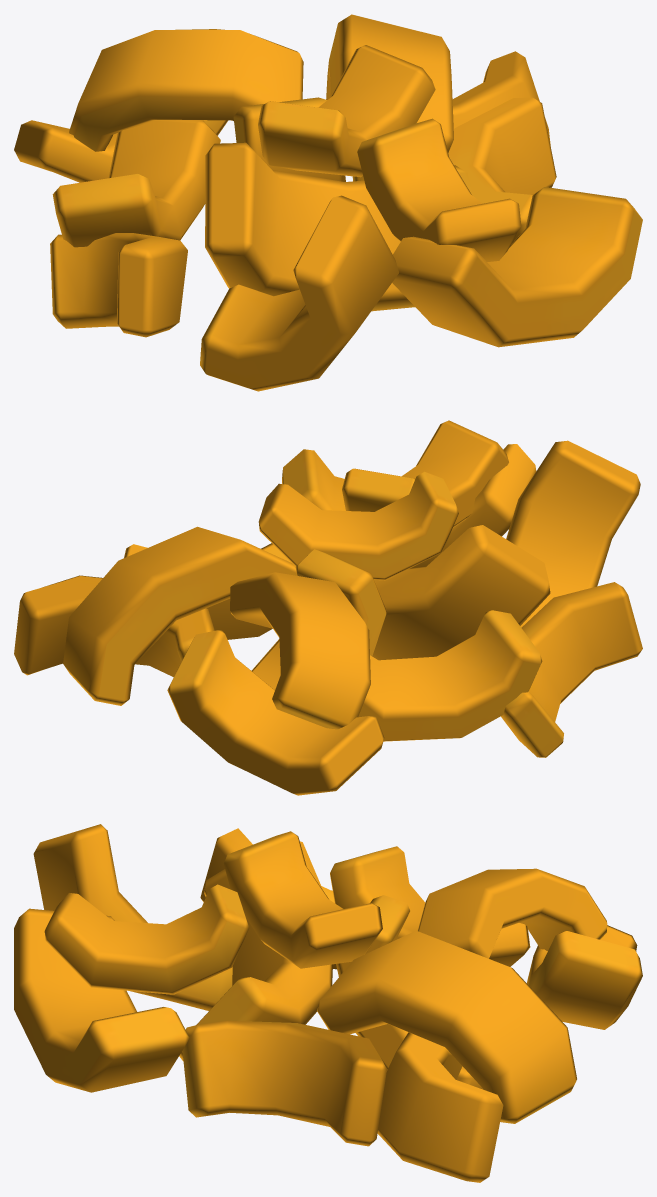
Rendered from m_ingredients_cheese_sliced_01.fbx.
3 renders of one model, top to bottom at view 1: azimuth 30°, elevation 25°; view 2: azimuth 150°, elevation 25°; view 3: azimuth 270°, elevation 25°, orthographic. The views are drawn at different scales.
Parts seen in each view (by area): view 1: m_ingredients_cheese_sliced_01; view 2: m_ingredients_cheese_sliced_01; view 3: m_ingredients_cheese_sliced_01.
Boxes of the visible parts, x1=… form: m_ingredients_cheese_sliced_01: x1=14, y1=14, x2=642, y2=391; m_ingredients_cheese_sliced_01: x1=14, y1=420, x2=642, y2=795; m_ingredients_cheese_sliced_01: x1=14, y1=824, x2=642, y2=1182.
Bounding box in the file's own units: 78.48 × 31.23 × 82.55.
Materials: 1 (1 with a texture image).
